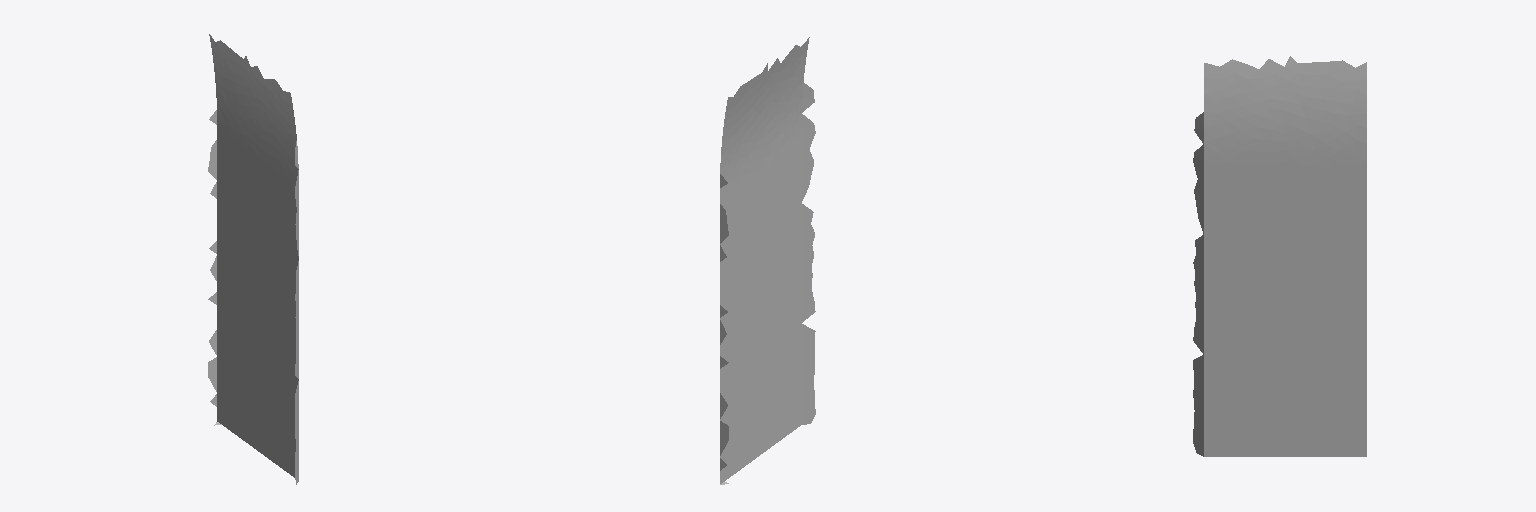
Rendered from x_maximas.obj.
3 views of the same model, side by side, from view 1: azimuth 30°, elevation 25°; view 2: azimuth 150°, elevation 25°; view 3: azimuth 270°, elevation 25° (orthographic).
Size of the model in its own units: 0.1 by 4.02 by 1.6.